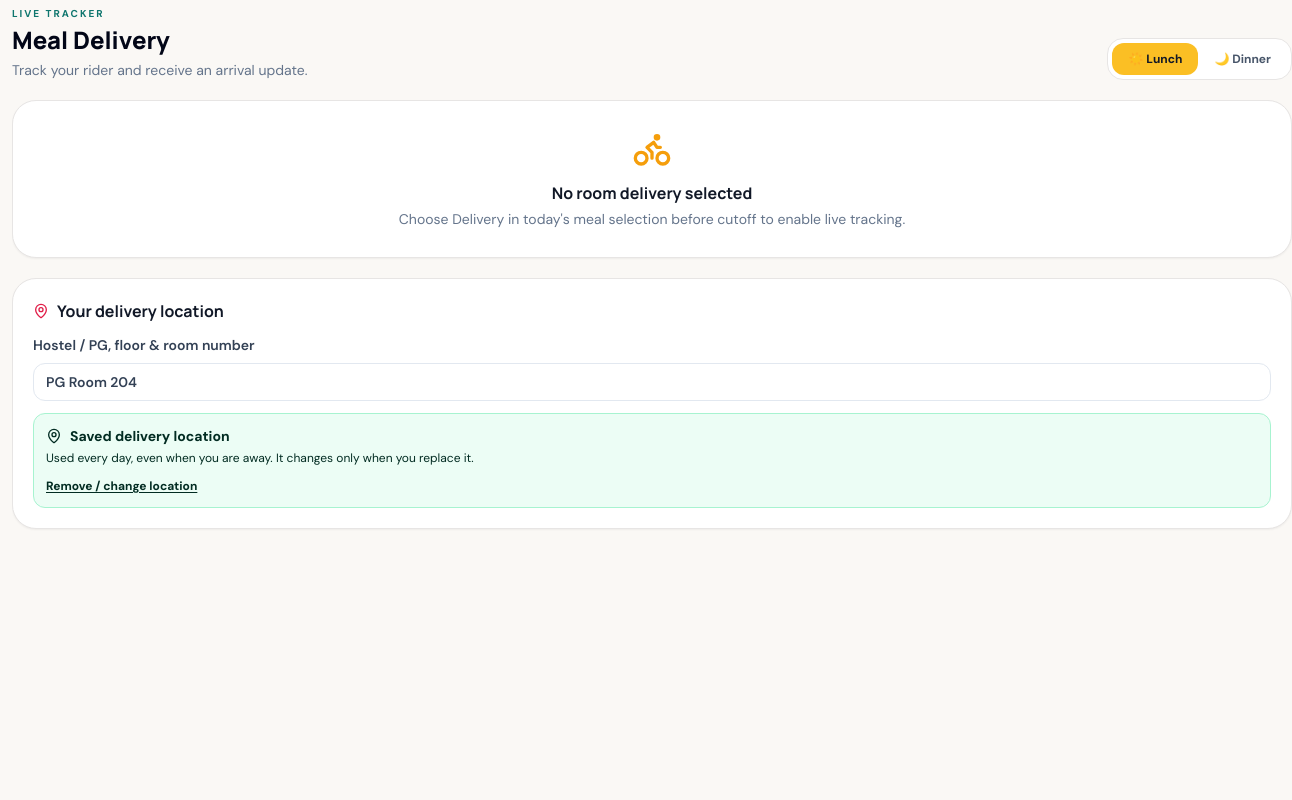
saved room is available without an active meal and opening does not request GPS
Check: the field labelled "Hostel / PG, floor & room number" holds "PG Room 204", box [33,363,1271,401]
Click the button "Remove / change location" at (122, 486), box [46,478,197,494]
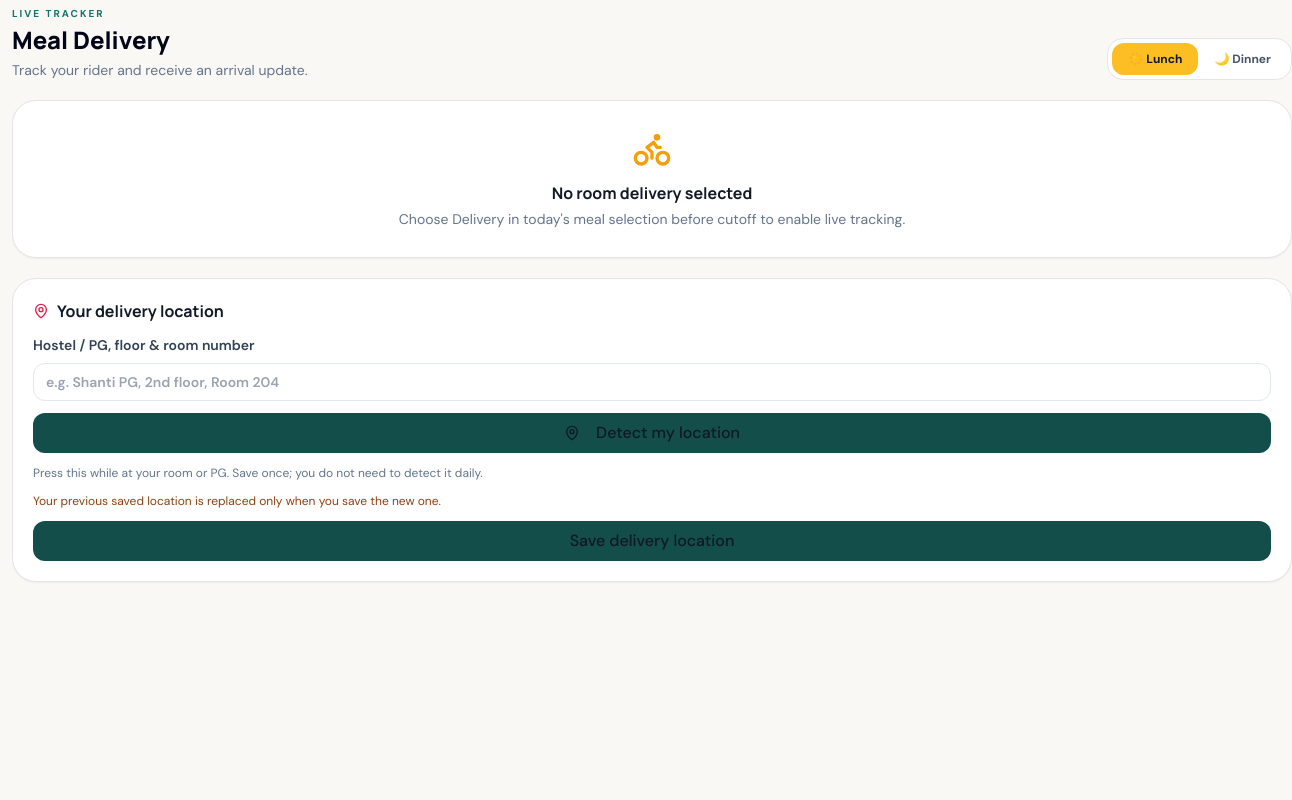
Check: the text "Detect my location" is shown, box [33,413,1271,453]
